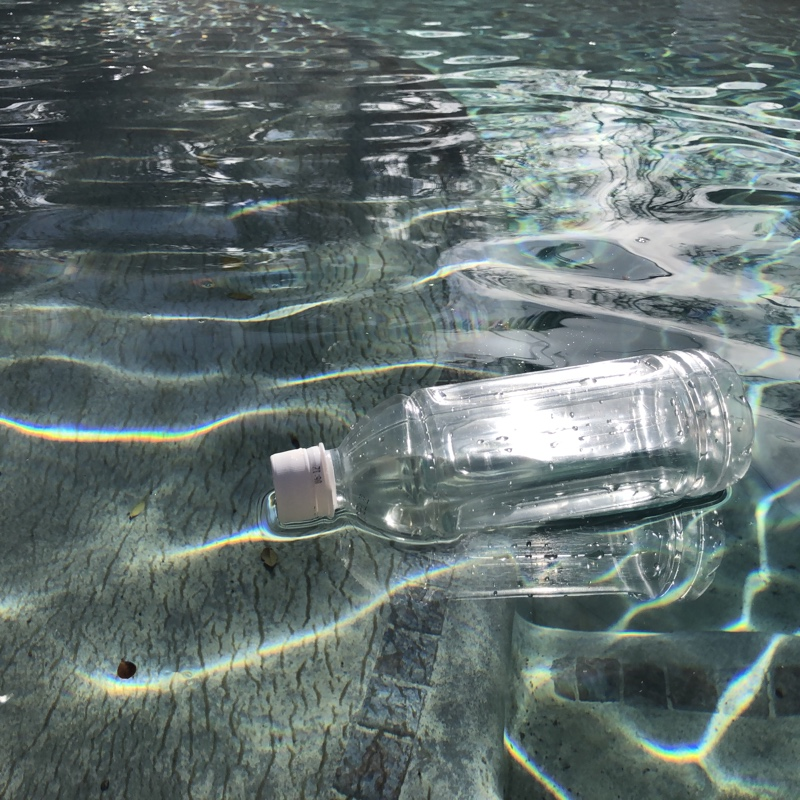Plastic Bottle: (265, 347, 766, 553)
